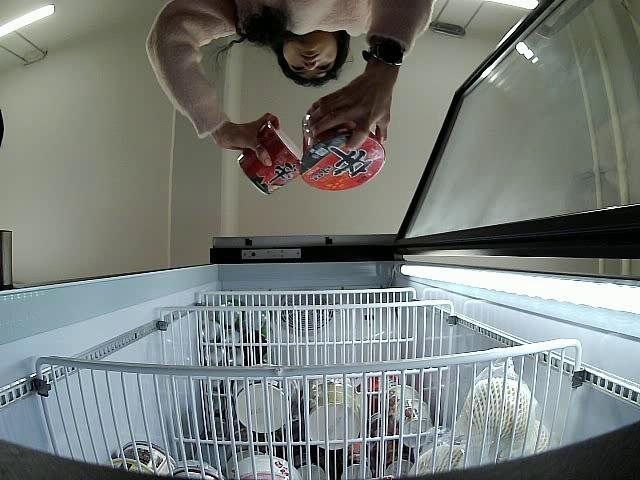01_ShinRamen_L: (300, 112, 384, 193), (238, 128, 302, 192)
